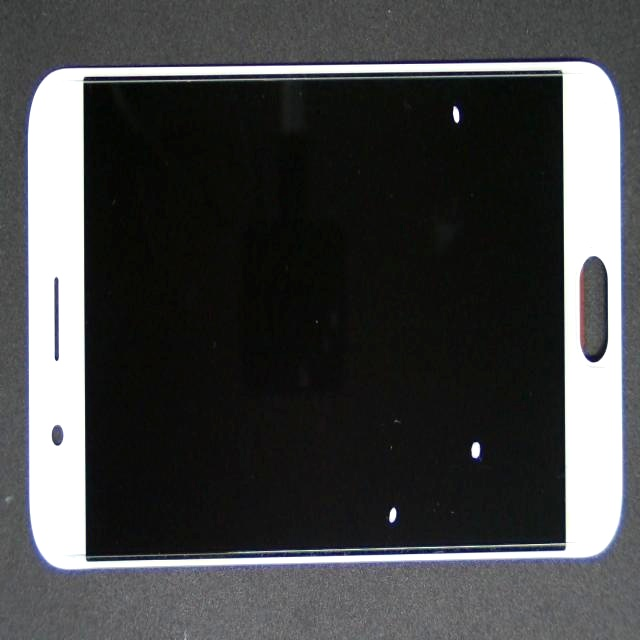stain: (259, 206, 640, 640), (211, 212, 573, 640), (234, 14, 640, 148)
